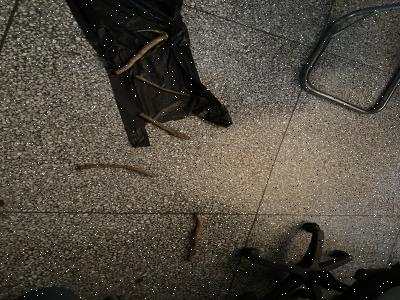Root: (114, 29, 168, 74), (140, 113, 190, 139), (134, 75, 190, 96), (75, 165, 159, 177), (187, 214, 203, 261)
